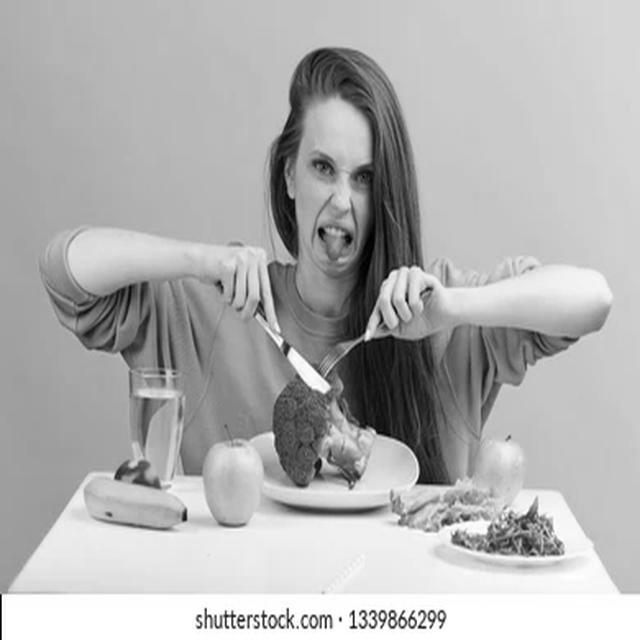Disgust: (295, 105, 379, 274)
